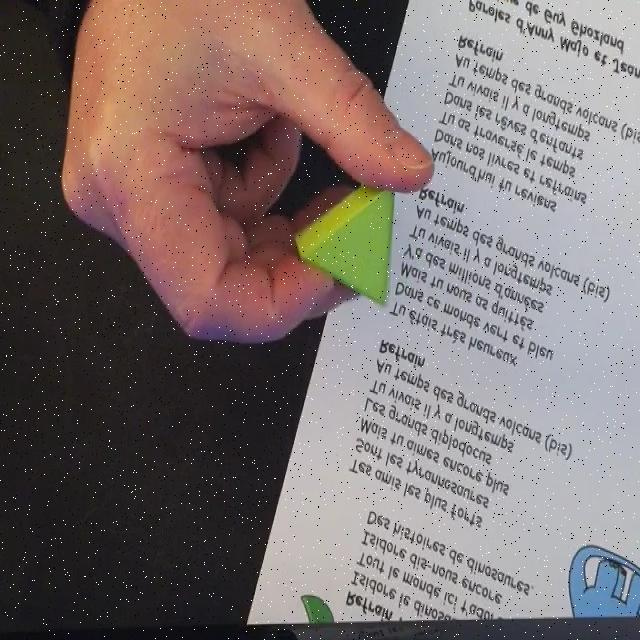triangle: (294, 173, 395, 311)
